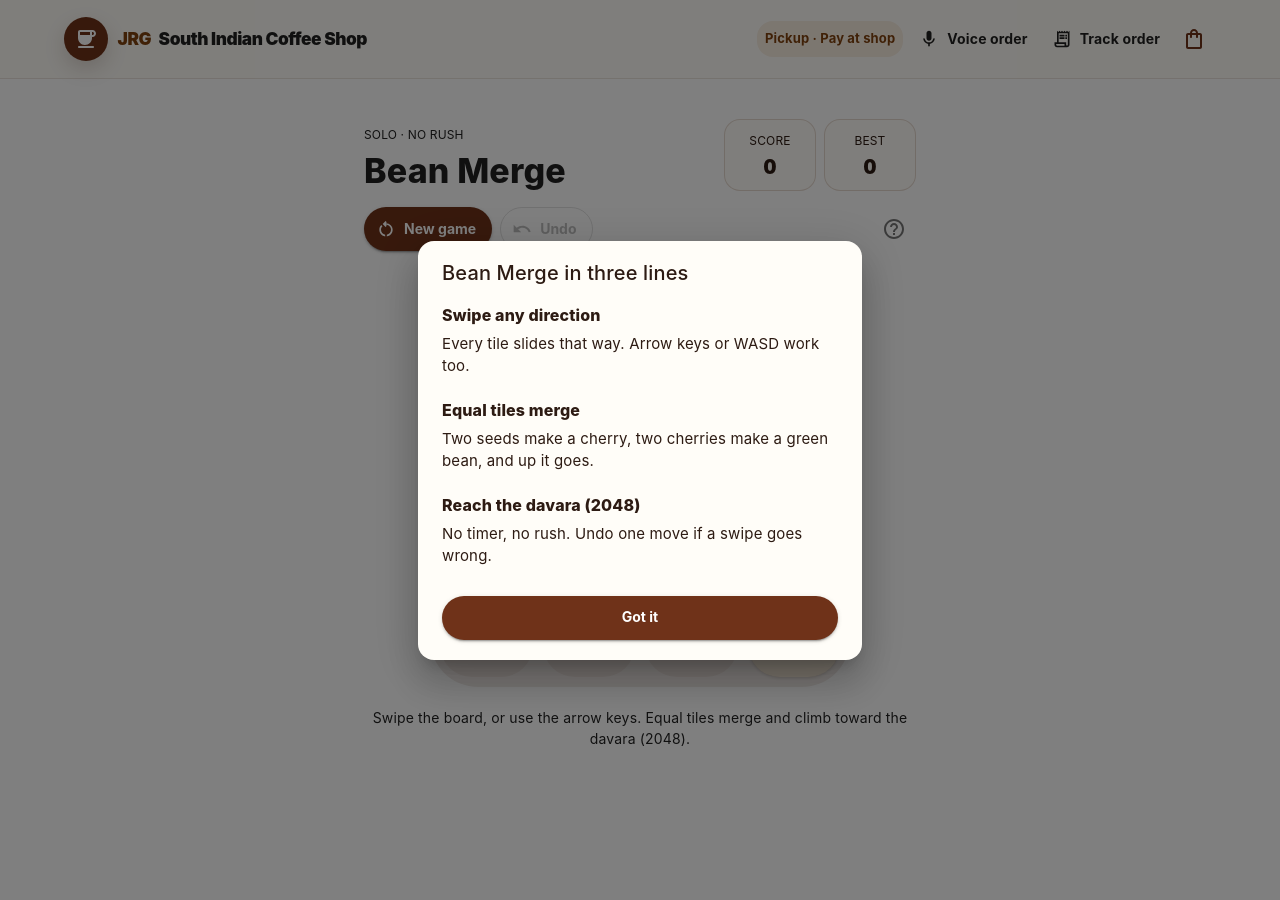
Test: Bean Merge UI › how to play › records that it was seen when dismissed, and can be reopened
Click the button "Got it". click: point(640, 618)
box: x1=442 y1=596 x2=838 y2=640
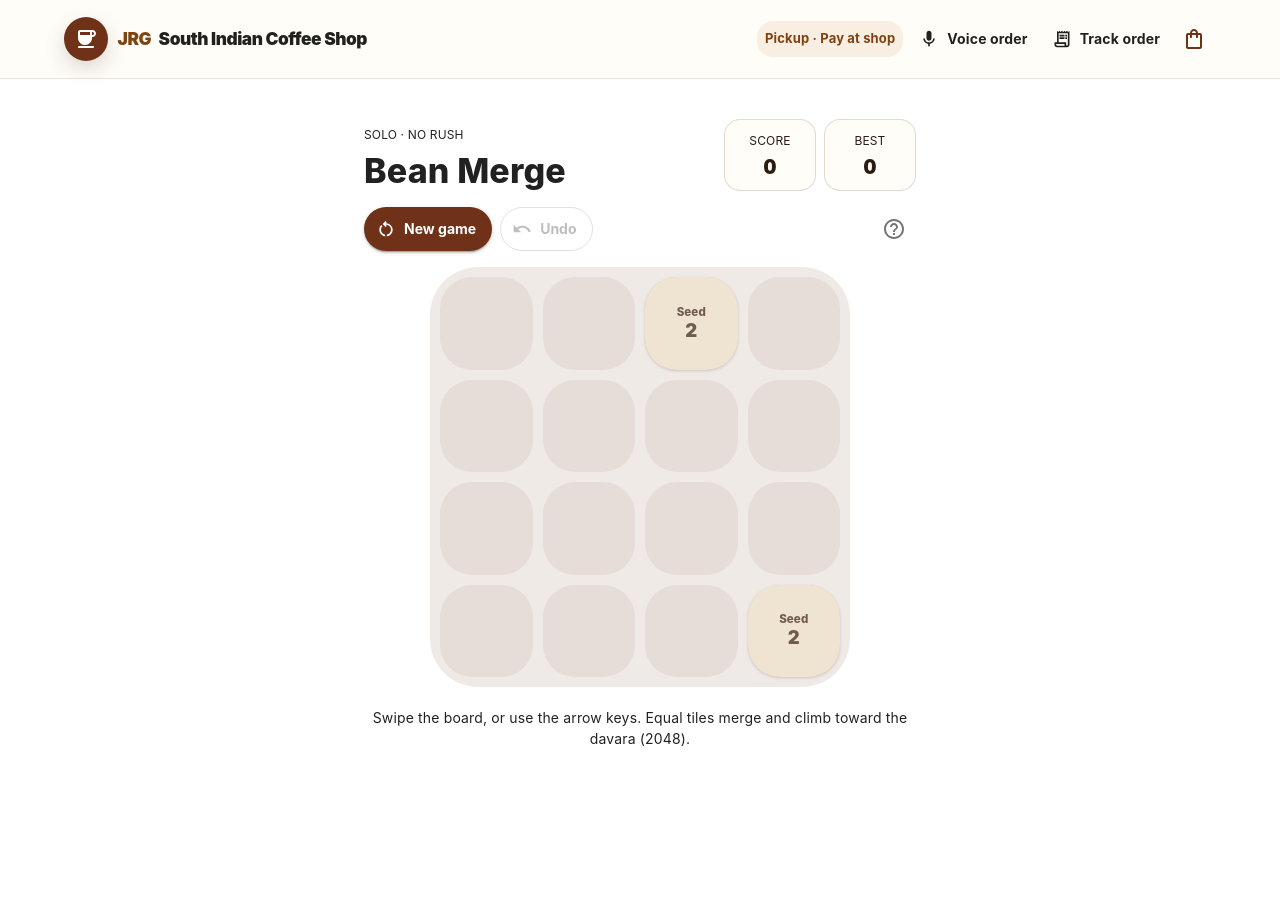
Click the button named "How to play". click: point(894, 229)
box: x1=872 y1=207 x2=916 y2=251
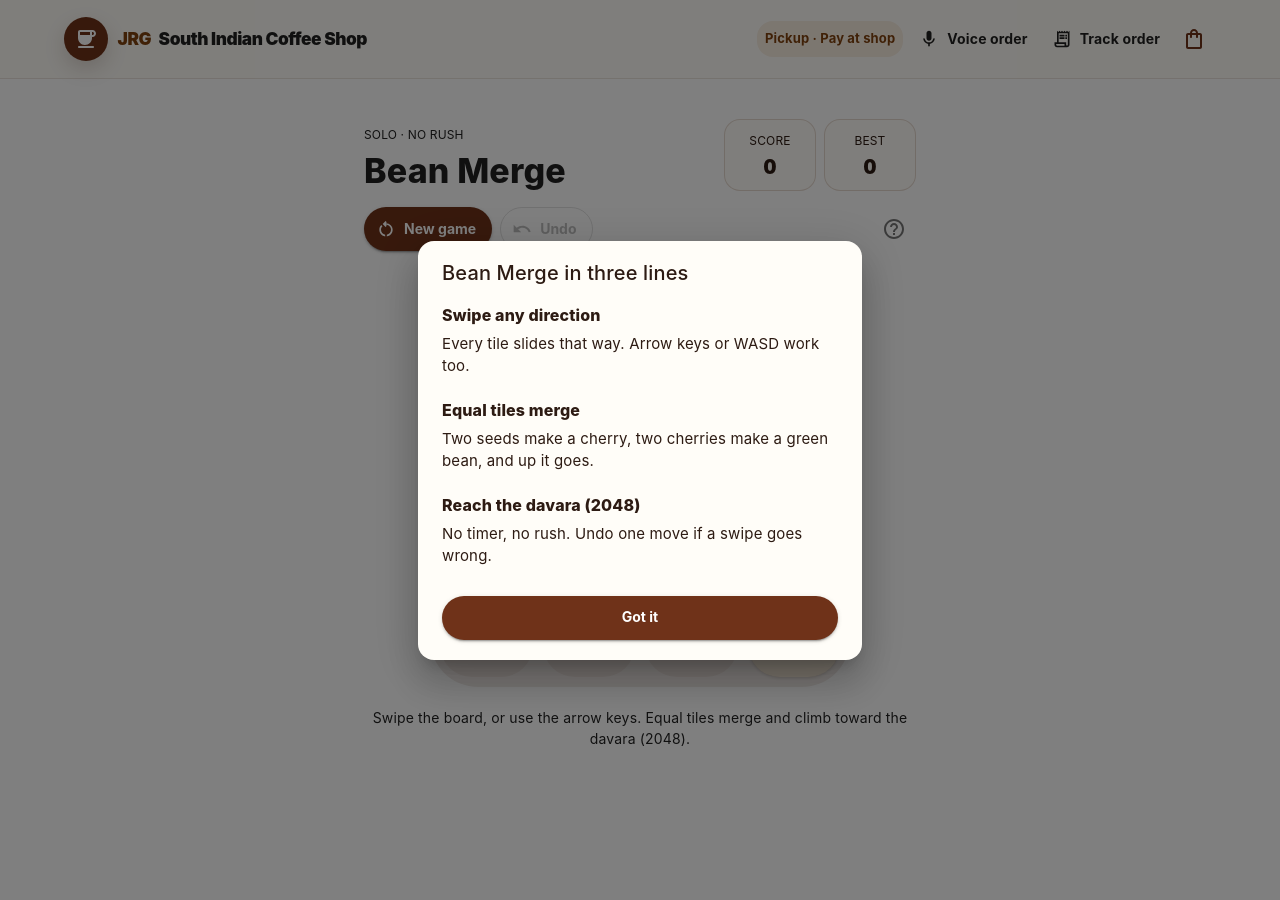
Expected: the dialog is shown, x1=418 y1=240 x2=862 y2=660
